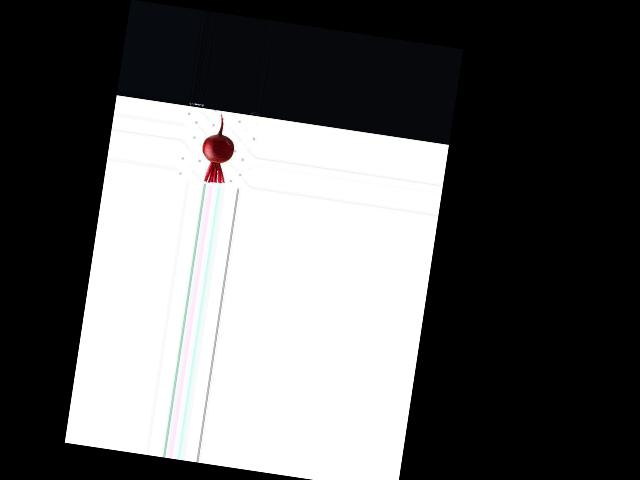beet: (198, 110, 239, 185)
